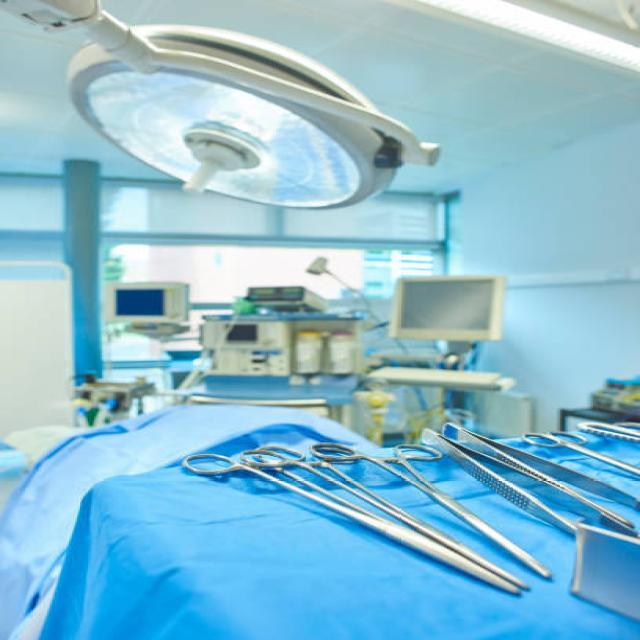Monitor: (380, 264, 512, 349), (92, 274, 206, 336)
tools_table: (45, 405, 640, 640)
